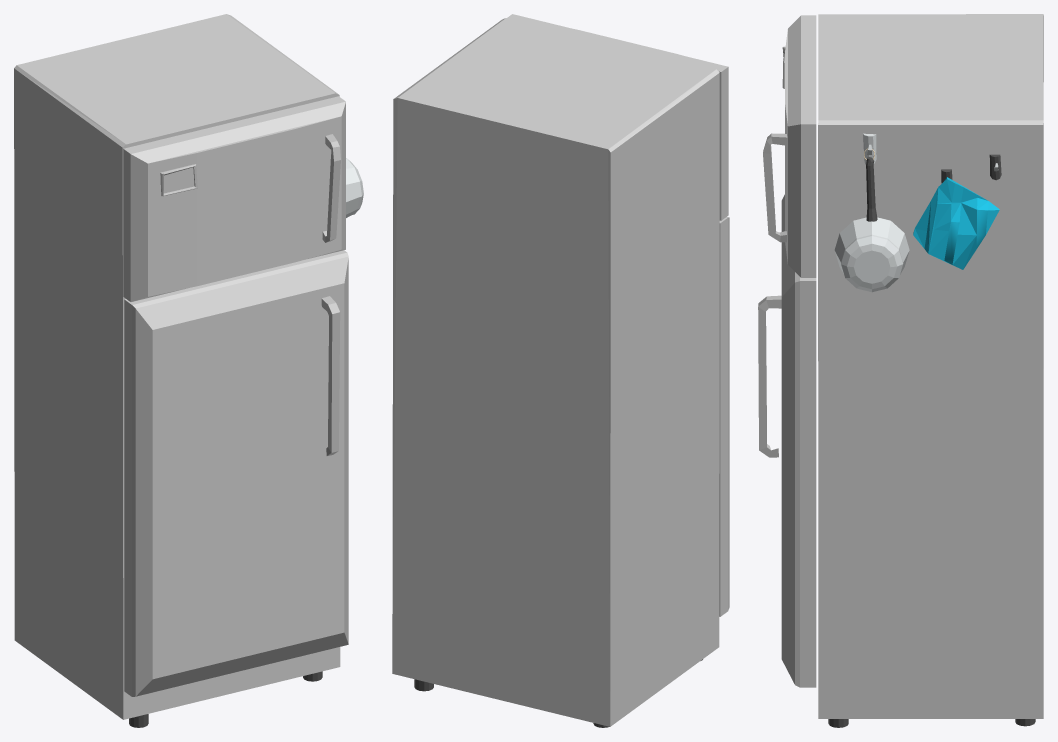
The model's file is fridge.gltf.
The picture shows the model from 3 angles, left to right: view 1: azimuth 30°, elevation 25°; view 2: azimuth 150°, elevation 25°; view 3: azimuth 270°, elevation 25°; orthographic projection. The views are drawn at different scales.
Parts seen in each view (by area): view 1: mesh610829822; view 2: mesh610829822; view 3: mesh610829822.
Part boxes in pixels (box(x1,y1,x2,y2)): mesh610829822: box(14, 14, 363, 727); mesh610829822: box(392, 14, 729, 727); mesh610829822: box(758, 14, 1043, 727).
Size of the model in its own units: 0.7744 by 1.7 by 0.72.
